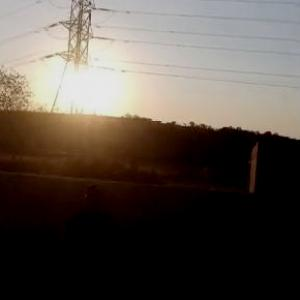follow: (53, 176, 117, 299)
